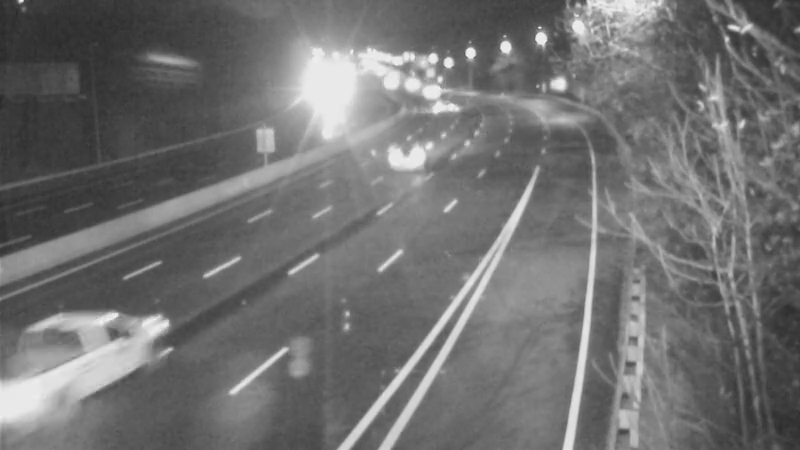vehicle: (16, 305, 126, 415), (366, 116, 446, 196), (383, 62, 433, 112), (406, 70, 456, 120), (419, 82, 469, 132), (299, 70, 349, 120)
